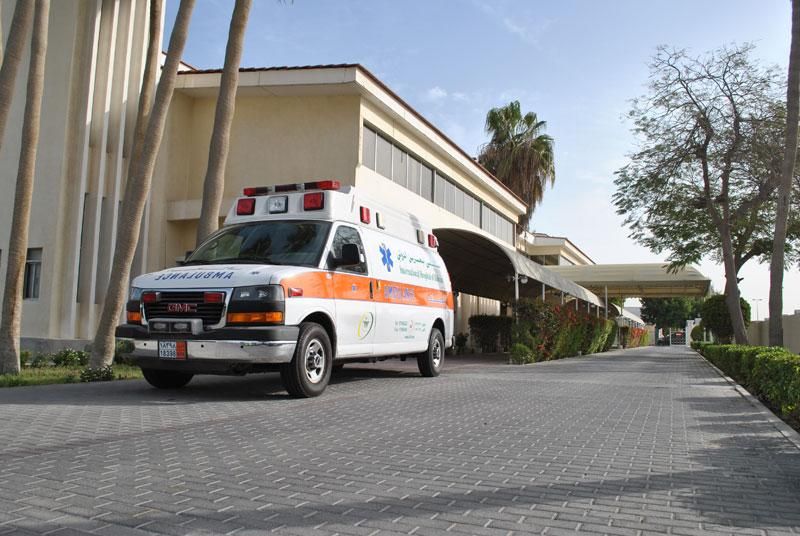ambulance_off: (115, 179, 456, 394)
